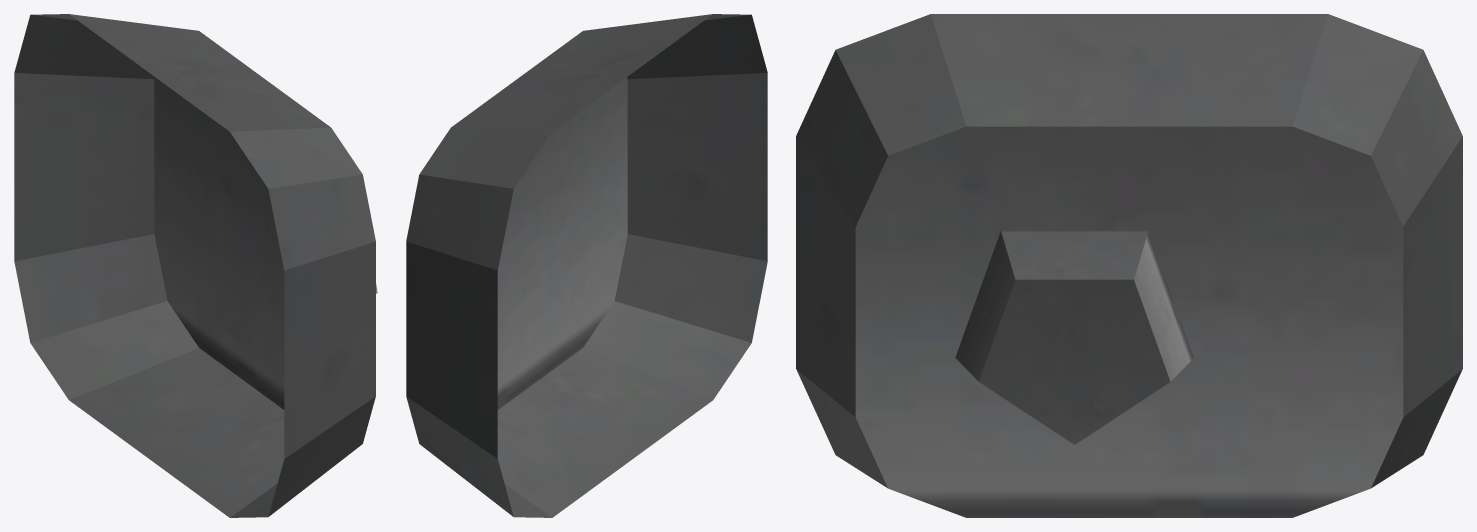
Rendered from nt_2020_wall_meter_01_LOD2.obj.
3 renders of one model, left to right at view 1: azimuth 30°, elevation 25°; view 2: azimuth 150°, elevation 25°; view 3: azimuth 270°, elevation 25°, orthographic. The views are drawn at different scales.
Parts seen in each view (by area): view 1: mtl_nt_2020_wall_meter_01; view 2: mtl_nt_2020_wall_meter_01; view 3: mtl_nt_2020_wall_meter_01.
Boxes of the visible parts, x1,y1,x2,y2 form: mtl_nt_2020_wall_meter_01: (14,14,377,517); mtl_nt_2020_wall_meter_01: (406,14,767,517); mtl_nt_2020_wall_meter_01: (796,14,1462,517).
Size of the model in its own units: 15.96 by 35.19 by 44.6.
